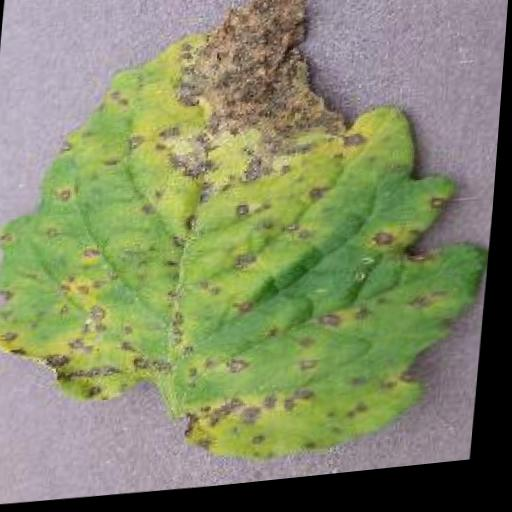Septoria: (0, 0, 511, 497)
